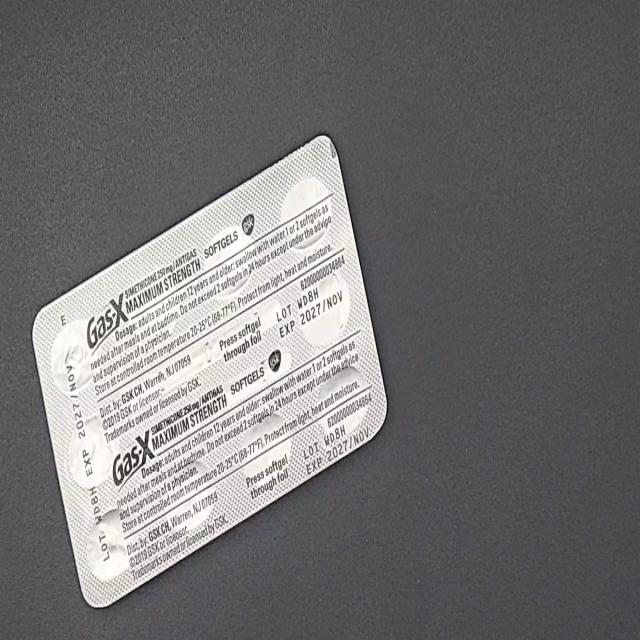no defect: (12, 12, 40, 68)
